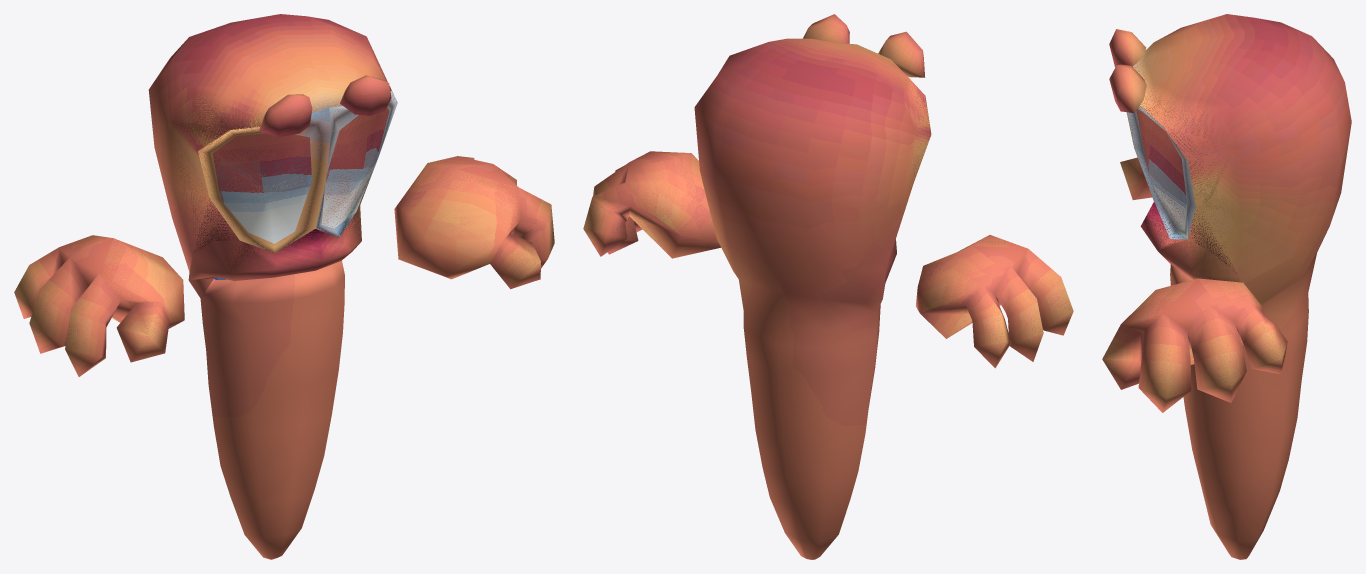
Rendered from Worm2.obj.
3 views of the same model, side by side, from view 1: azimuth 30°, elevation 25°; view 2: azimuth 150°, elevation 25°; view 3: azimuth 270°, elevation 25° (orthographic). The views are drawn at different scales.
Parts seen in each view (by area): view 1: Inst3D_RefRep.221_Ref; view 2: Inst3D_RefRep.221_Ref; view 3: Inst3D_RefRep.221_Ref.
Part boxes in pixels (x1,y1,x2,y2): Inst3D_RefRep.221_Ref: [14, 14, 554, 559]; Inst3D_RefRep.221_Ref: [583, 14, 1073, 559]; Inst3D_RefRep.221_Ref: [1102, 14, 1351, 559].
Size of the model in its own units: 4.03 by 4.18 by 1.8.
